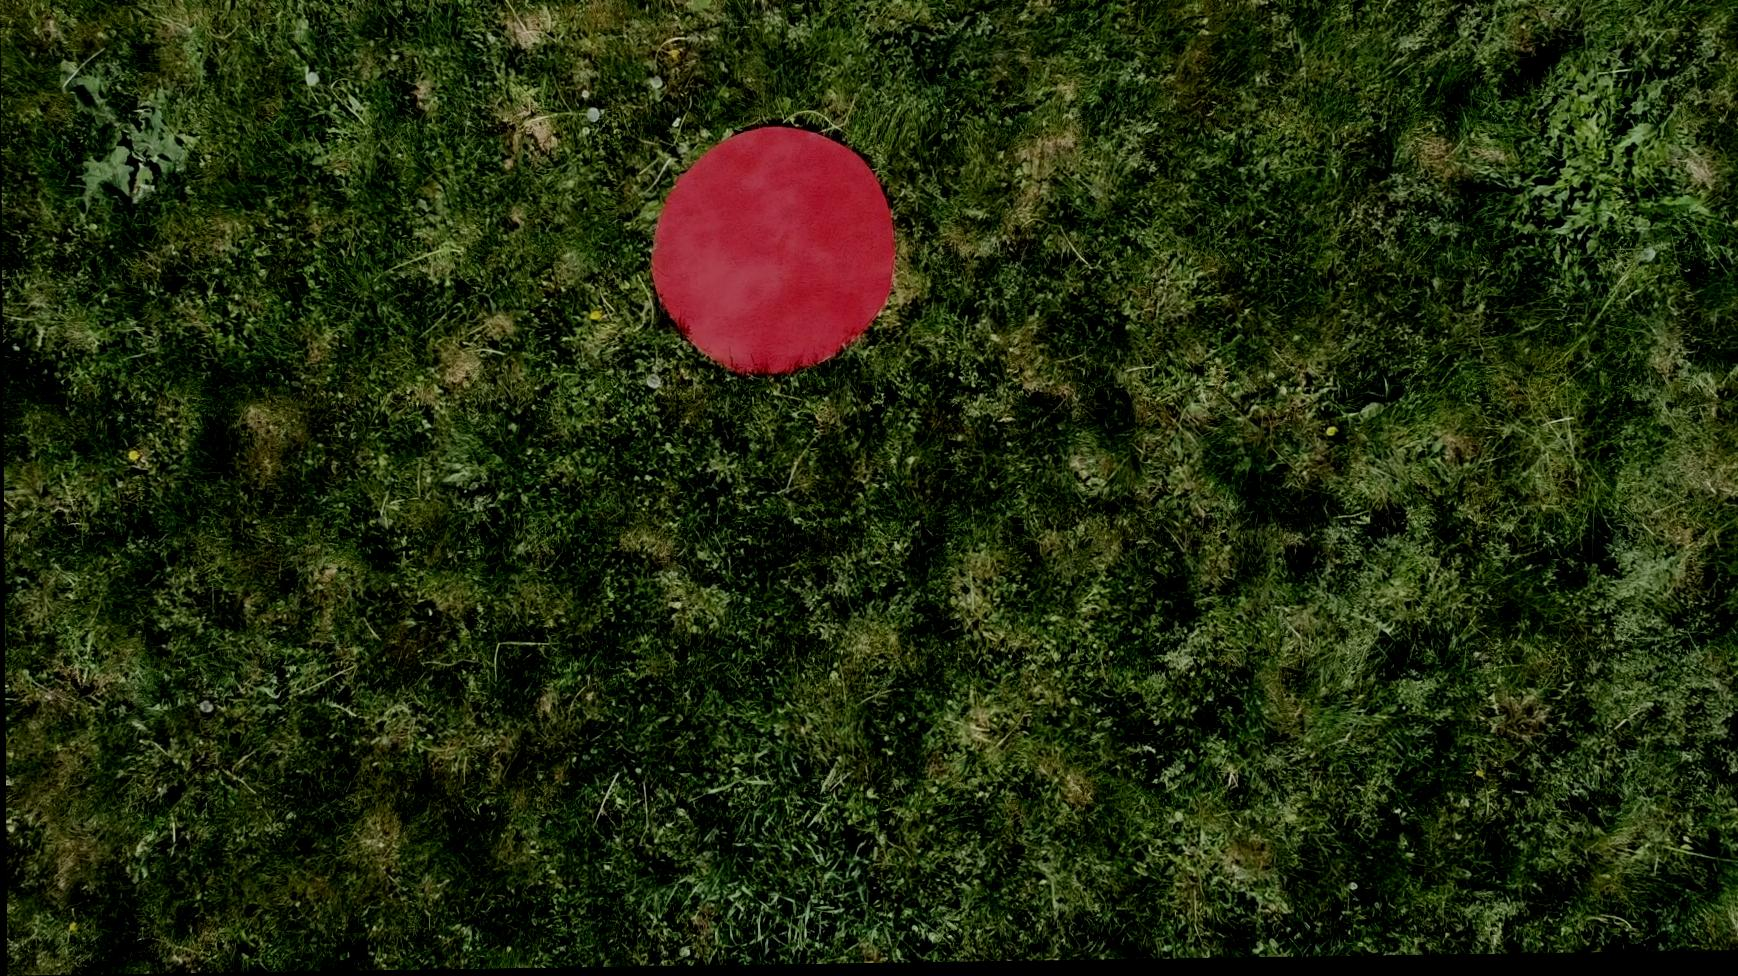Red: (643, 111, 910, 390)
